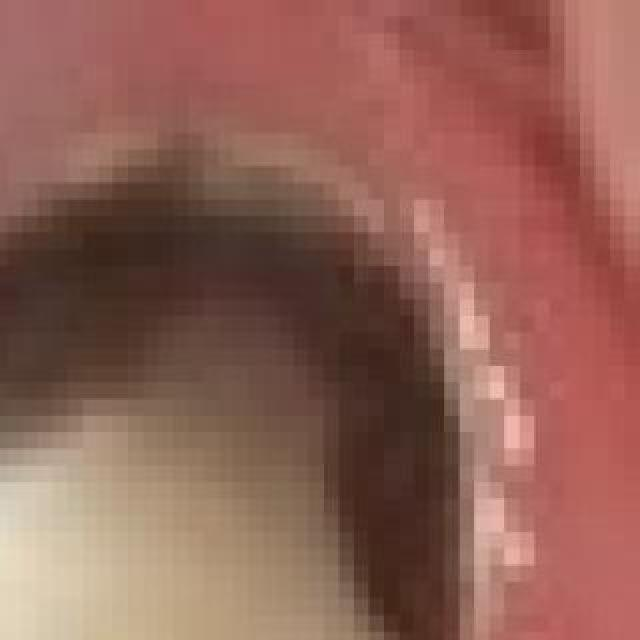cavities: (0, 150, 484, 640)
